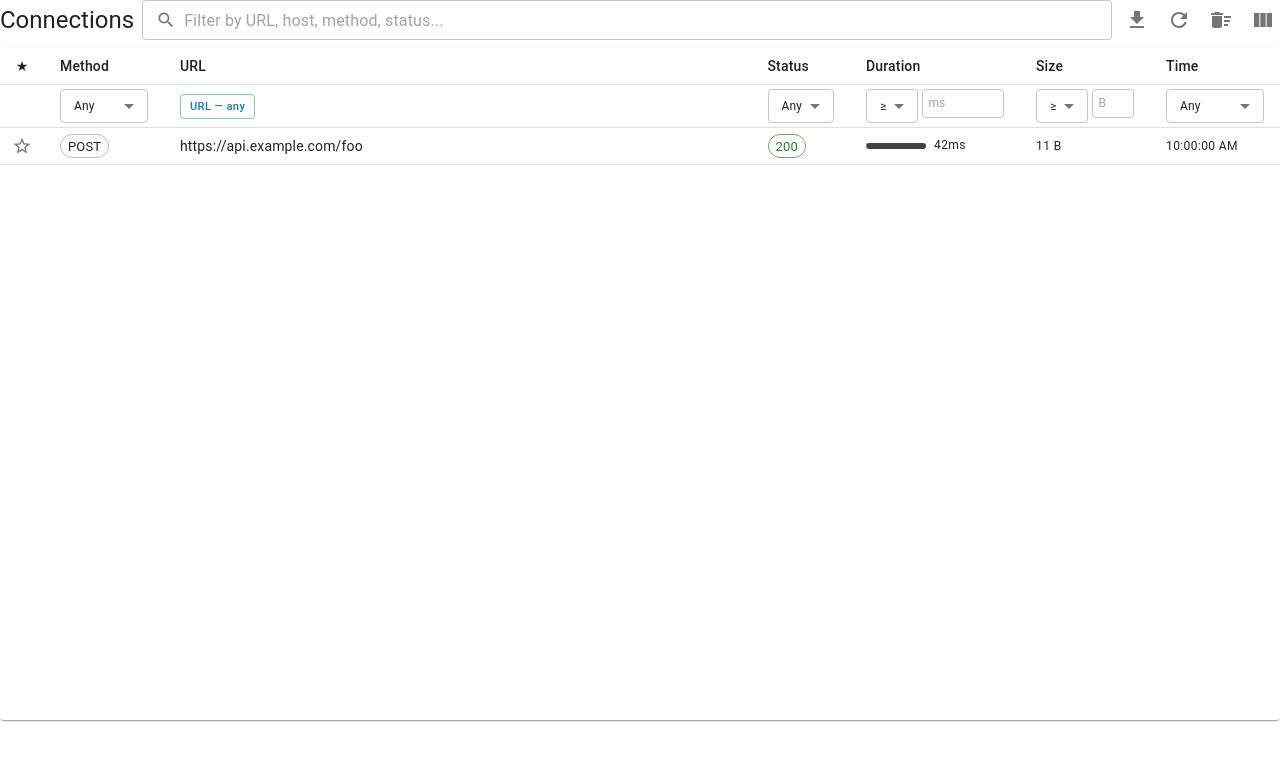
Scenario: ConnectionsPage — body format / clipboard error toasts › formats a request body via the request-body-format button
Click the text "https://api.example.com/foo".
click(458, 147)  # box [164, 128, 752, 165]
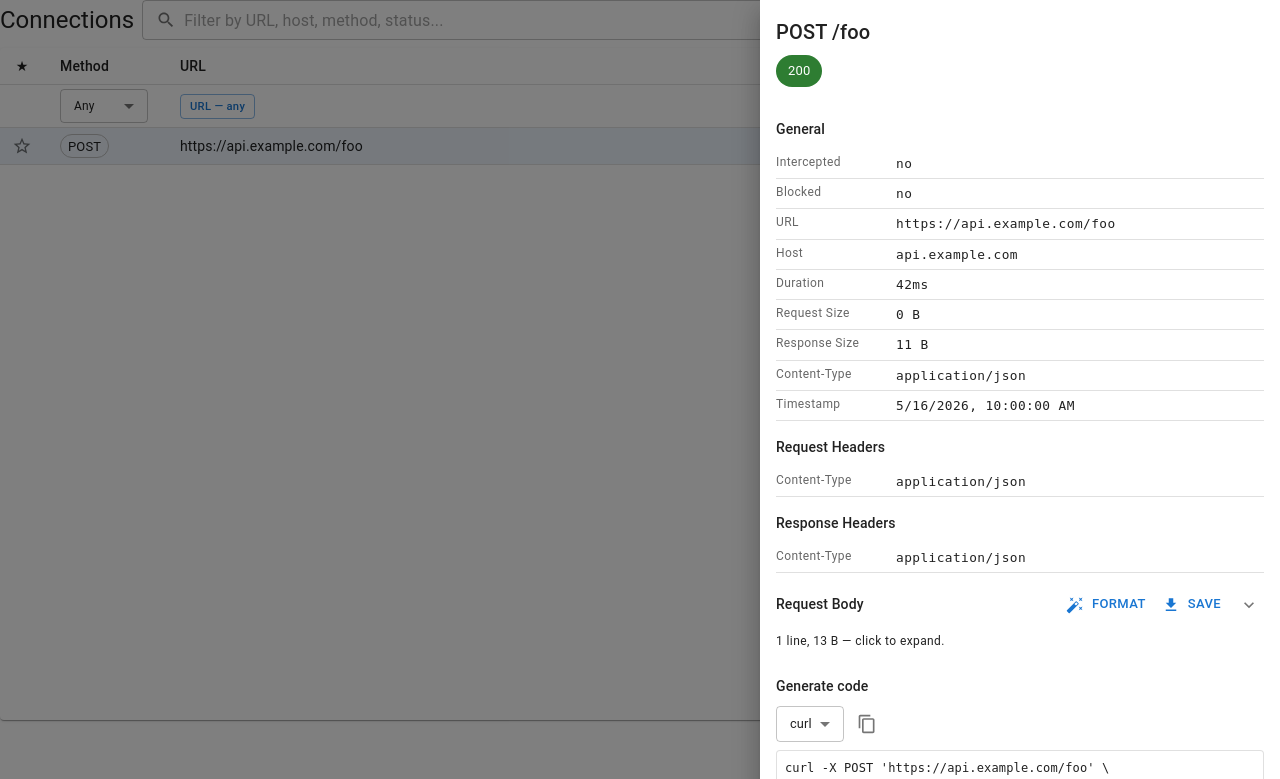
Click the button with test id "request-body-format".
click(1107, 605)  # box [1063, 590, 1151, 620]
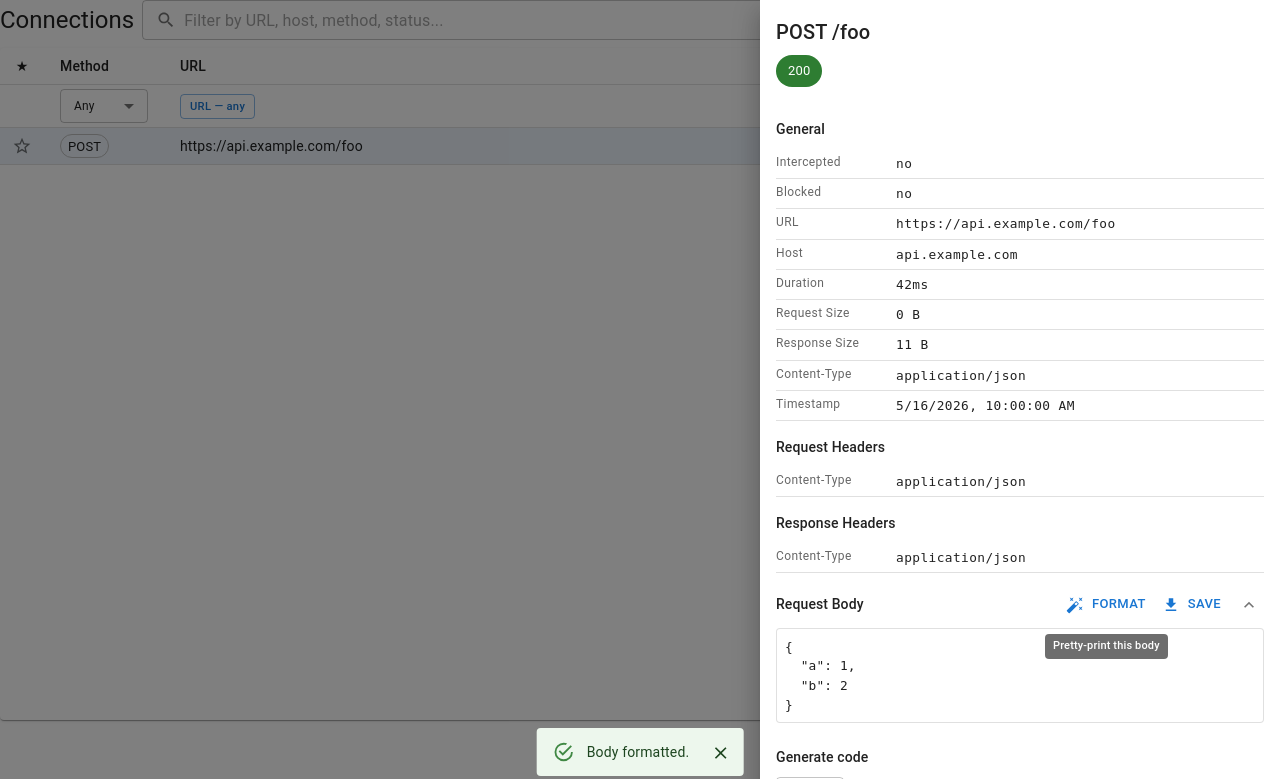
Expected: the text "Body formatted." is shown, [587, 744, 689, 760]
